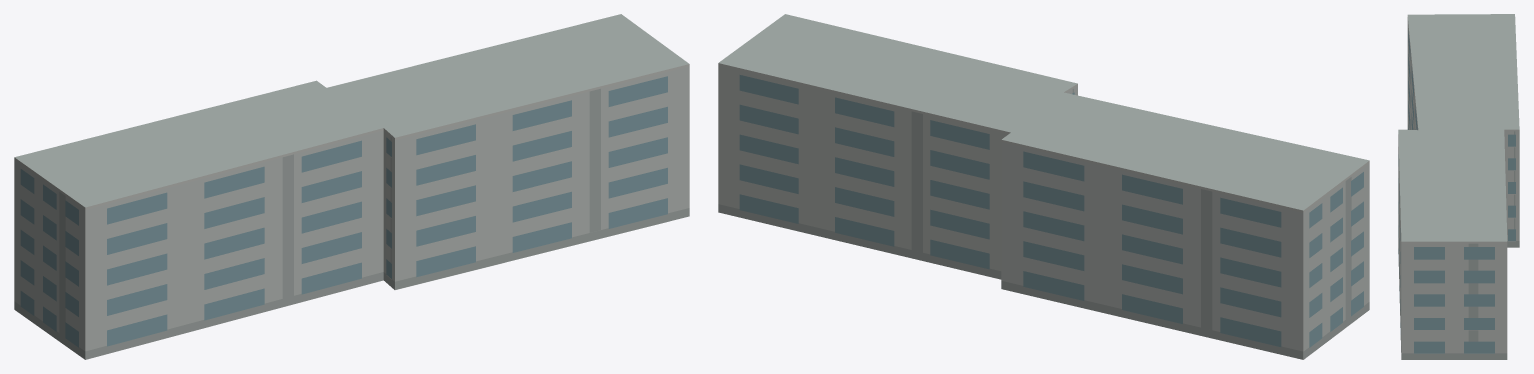
Rendered from residential-90034400-42f8-4820-b5f3-82b06bffd402.glb.
The picture shows the model from 3 angles, left to right: view 1: azimuth 30°, elevation 25°; view 2: azimuth 150°, elevation 25°; view 3: azimuth 270°, elevation 25°; orthographic projection. The views are drawn at different scales.
Visible parts, largest first — view 1: residential-90034400-42f8-4820-b5f3-82b06bffd402.tmp; view 2: residential-90034400-42f8-4820-b5f3-82b06bffd402.tmp; view 3: residential-90034400-42f8-4820-b5f3-82b06bffd402.tmp.
Boxes of the visible parts, x1,y1,x2,y2 form: residential-90034400-42f8-4820-b5f3-82b06bffd402.tmp: (14,14,689,359); residential-90034400-42f8-4820-b5f3-82b06bffd402.tmp: (718,14,1369,359); residential-90034400-42f8-4820-b5f3-82b06bffd402.tmp: (1398,14,1519,359).
Size of the model in its own units: 63.06 by 15.25 by 14.19.
